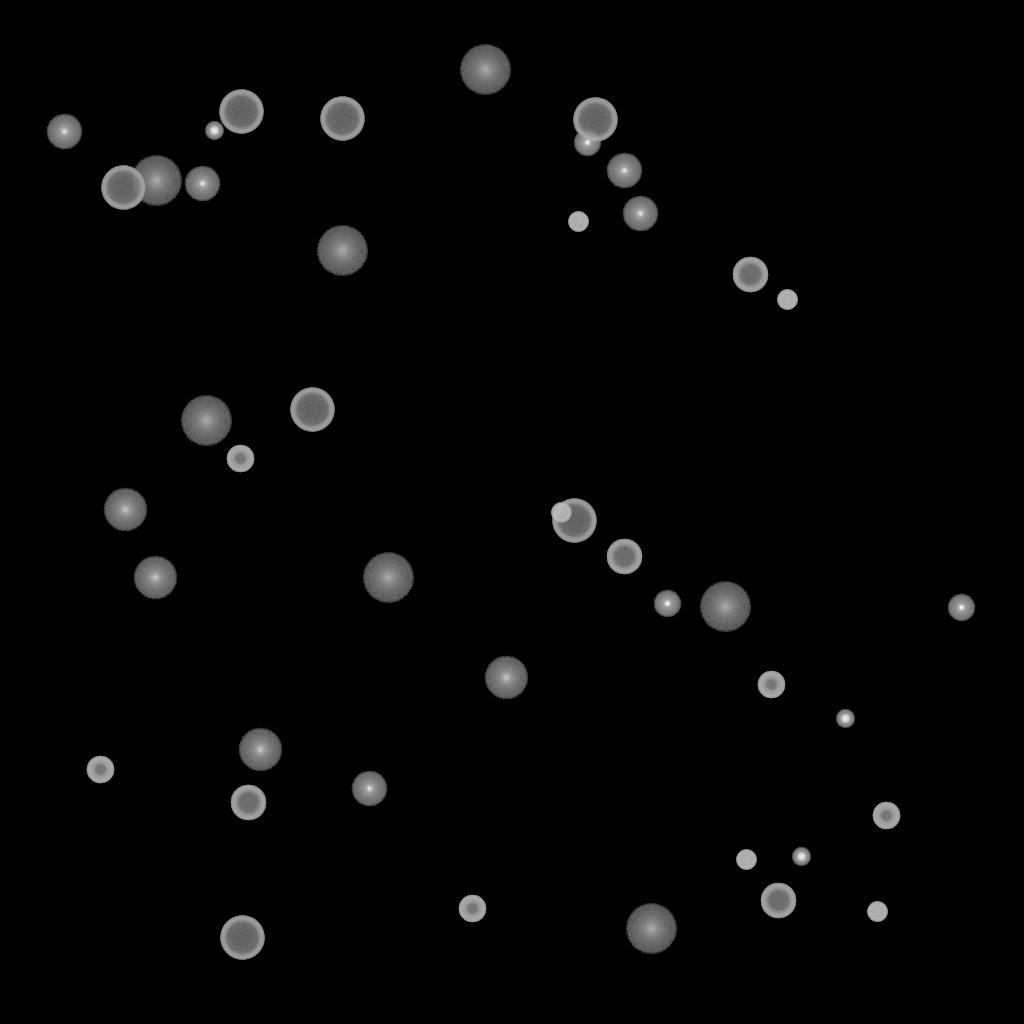depth:-10: (573, 129, 601, 157), (947, 594, 975, 622), (653, 590, 681, 618)
depth:-20: (792, 848, 810, 866), (836, 710, 854, 728), (205, 122, 223, 140)
depth:-40: (551, 503, 571, 523), (867, 902, 887, 922), (568, 212, 588, 232), (736, 850, 756, 870), (777, 290, 797, 310)
depth:-50: (872, 802, 900, 830), (458, 895, 486, 923), (757, 671, 785, 699), (226, 445, 254, 473), (86, 756, 114, 784)
depth:-60: (760, 883, 796, 919), (606, 539, 642, 575), (732, 257, 768, 293), (230, 785, 266, 821)
depth:-70: (320, 97, 364, 141), (552, 499, 596, 543), (101, 166, 145, 210), (219, 90, 263, 134), (573, 98, 617, 142), (290, 388, 334, 432), (220, 916, 264, 960)
depth:0: (351, 771, 387, 807), (622, 196, 658, 232), (606, 153, 642, 189), (46, 114, 82, 150), (184, 166, 220, 202)
depth:10: (103, 488, 147, 532), (238, 728, 282, 772), (133, 556, 177, 600), (484, 656, 528, 700)
depth:20: (699, 582, 751, 632), (316, 226, 368, 276), (625, 904, 677, 954), (362, 553, 414, 603), (180, 396, 232, 446), (130, 156, 182, 206), (459, 45, 511, 95)
